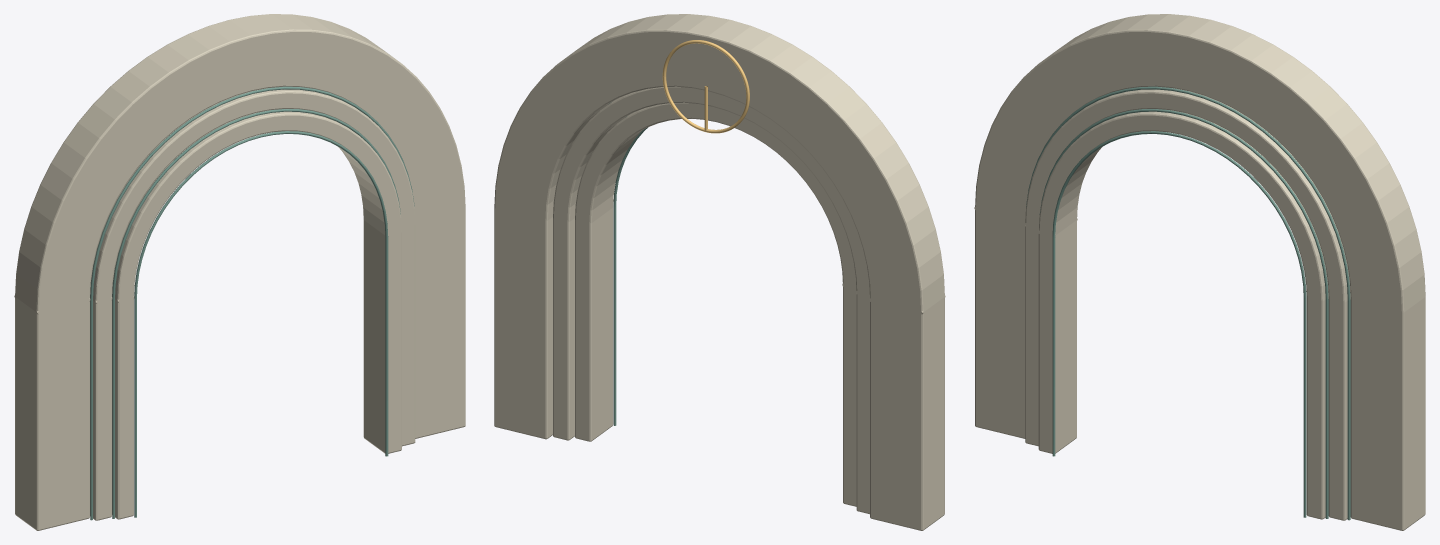
File: gate.glb
The picture shows the model from 3 angles, left to right: view 1: azimuth 30°, elevation 25°; view 2: azimuth 150°, elevation 25°; view 3: azimuth 330°, elevation 25°; orthographic projection.
Visible parts, largest first — view 1: gate; view 2: gate; view 3: gate.
Boxes of the visible parts, x1,y1,x2,y2 form: gate: (14,14,465,530); gate: (494,14,945,530); gate: (974,14,1425,530).
Size of the model in its own units: 41 by 40.5 by 5.91.
